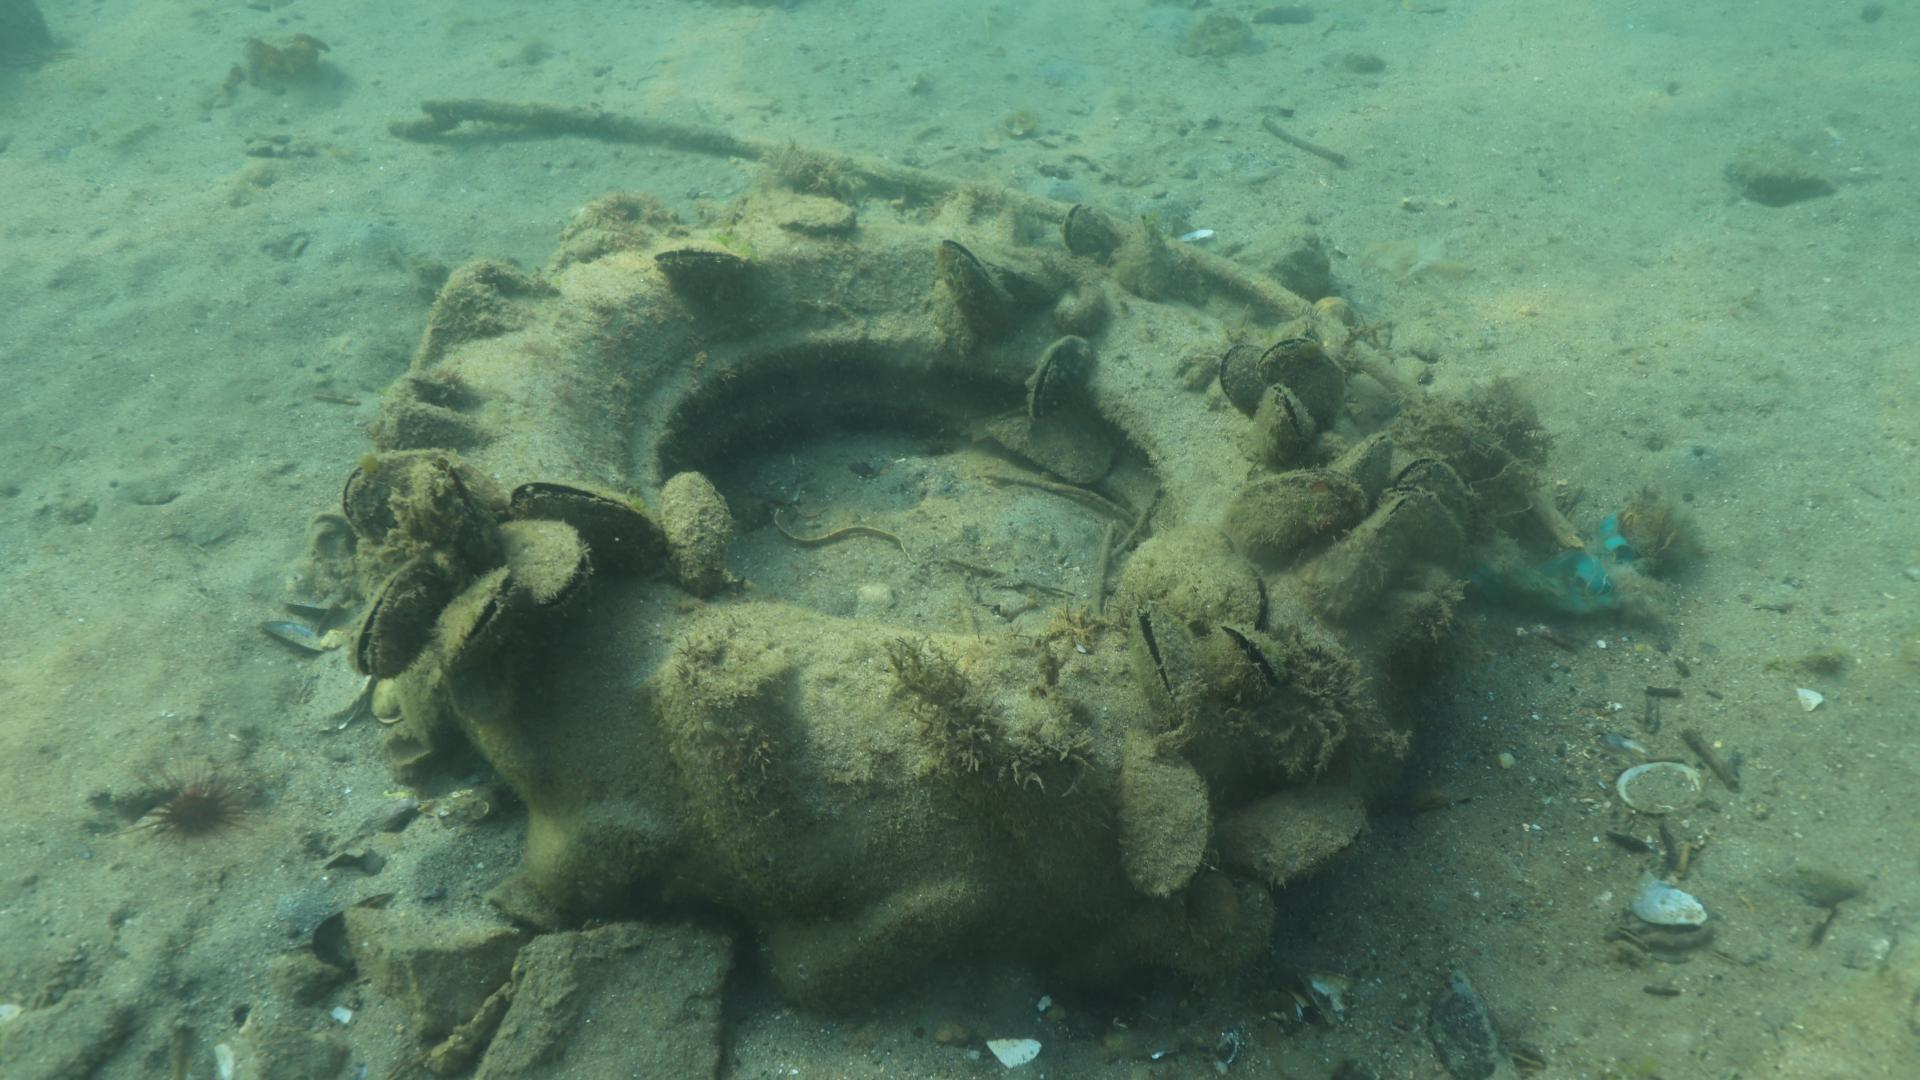tire: (371, 185, 1457, 1015)
